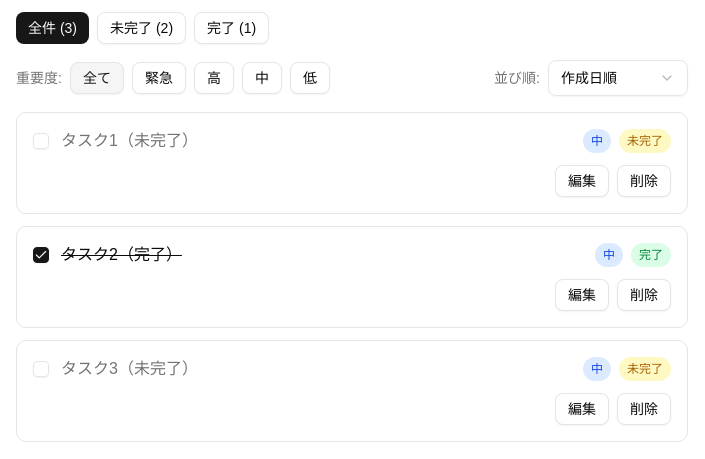
TodoList › Filter functionality › should show only completed todos when completed filter is clicked
Click the button "完了 (1)".
click(232, 28)  # box [194,12,269,44]
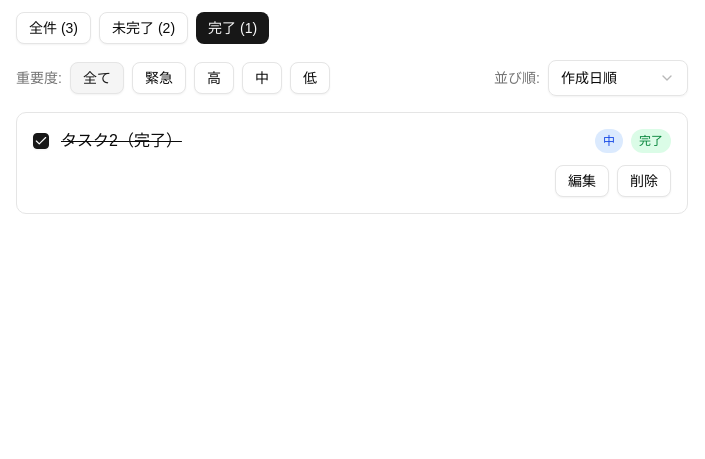
Expected: the heading "タスク2（完了）" is shown, [61,129,182,153]
Now the heading "タスク1（未完了）" is gone
Now the heading "タスク3（未完了）" is gone
